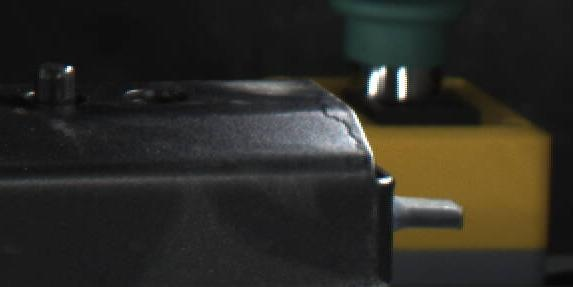rubber: (389, 190, 464, 236)
screw: (30, 59, 82, 107)
